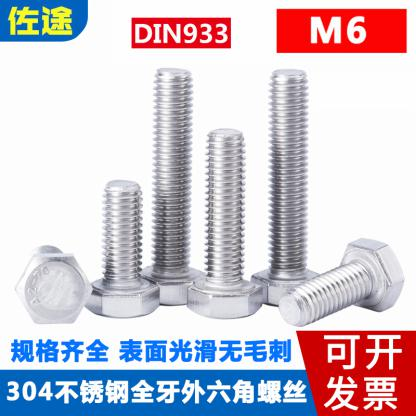FOD: (251, 67, 330, 309), (136, 66, 211, 312), (185, 126, 264, 321), (278, 236, 406, 328), (80, 178, 161, 321), (10, 243, 94, 329)
